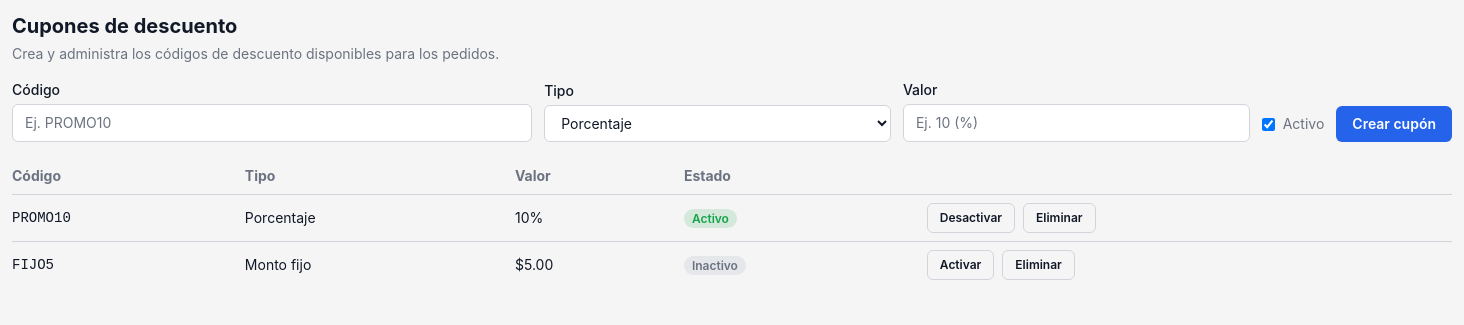
Test case: CouponManager › elimina un cupón tras confirmar
The width and height of the screenshot is (1464, 325).
Click the button "Eliminar" in the row of "PROMO10" at x=1059, y=218, box [1023,203,1096,233]
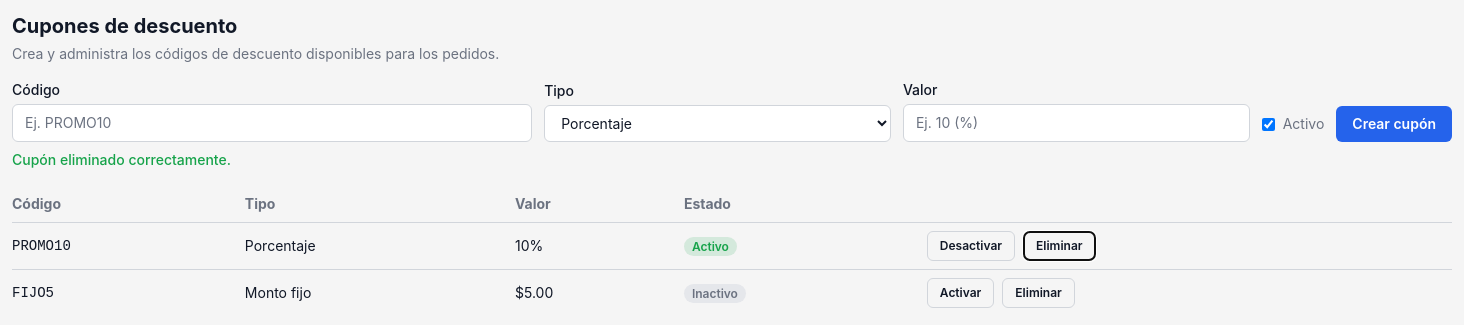
Now the text "Cupón eliminado correctamente." is shown, box [12,151,231,168]
